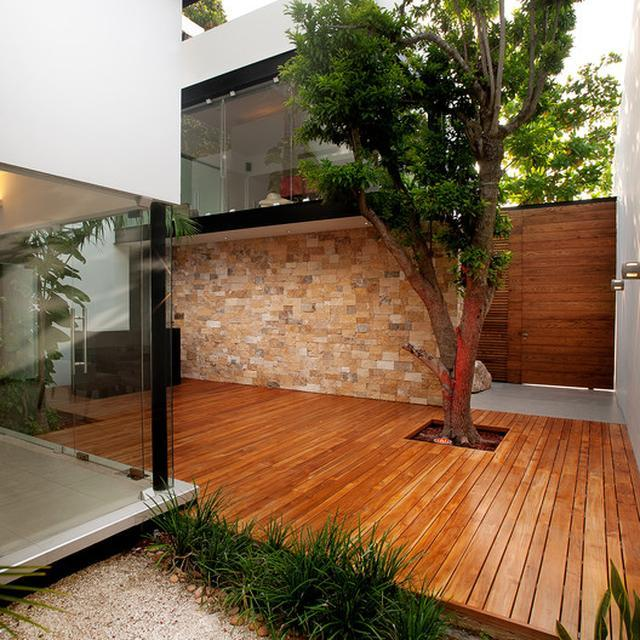building: (182, 1, 480, 403)
